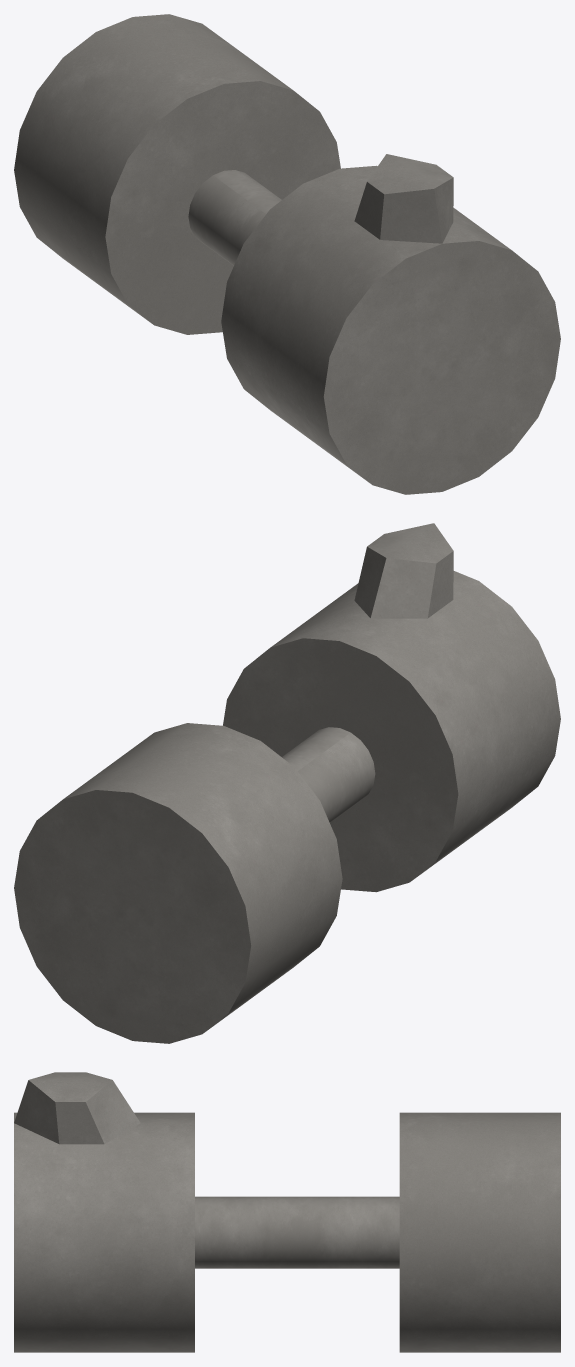
3 views of the same model, one above another, from view 1: azimuth 30°, elevation 25°; view 2: azimuth 150°, elevation 25°; view 3: azimuth 270°, elevation 25° (orthographic). The views are drawn at different scales.
Visible parts, largest first — view 1: Frame; view 2: Frame; view 3: Frame.
Boxes of the visible parts, bbox=[...] form: Frame: bbox=[14, 14, 560, 494]; Frame: bbox=[14, 523, 560, 1043]; Frame: bbox=[14, 1072, 560, 1352].
Size of the model in its own units: 2 by 2.39 by 4.52.
1 material, 1 textured.
